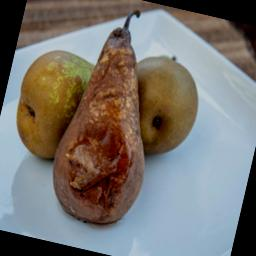Pear Rotten: (44, 0, 185, 250), (109, 20, 214, 174)
